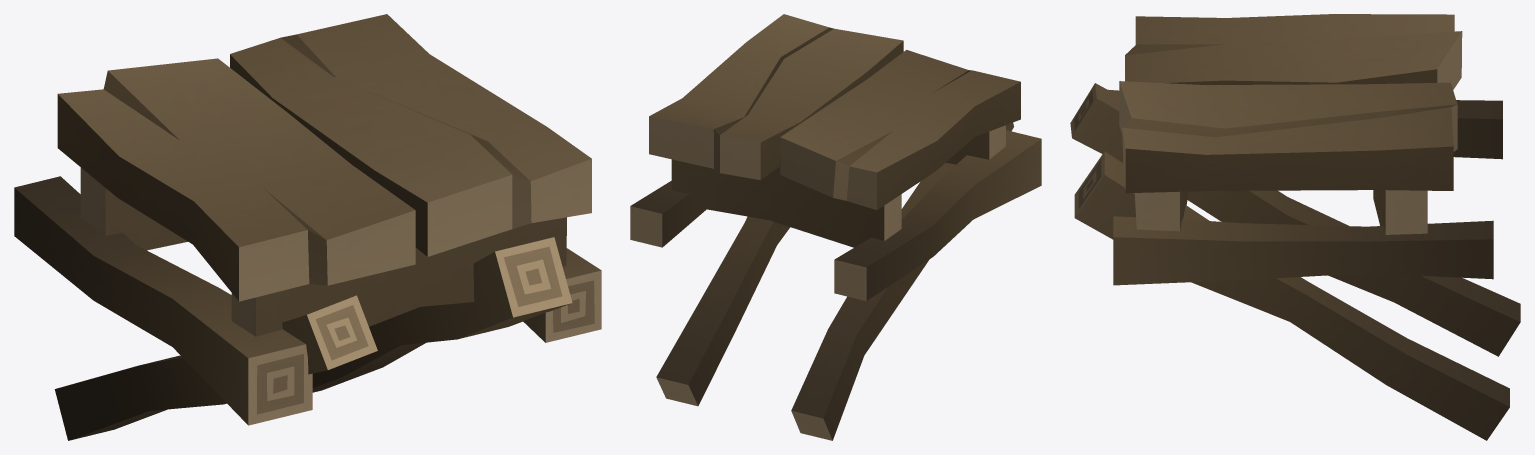
The model's file is scaffolding_1x1_wall_mounted.fbx.
The picture shows the model from 3 angles, left to right: view 1: azimuth 30°, elevation 25°; view 2: azimuth 150°, elevation 25°; view 3: azimuth 270°, elevation 25°; orthographic projection. The views are drawn at different scales.
Parts seen in each view (by area): view 1: scaffolding_1x1_wall_mounted; view 2: scaffolding_1x1_wall_mounted; view 3: scaffolding_1x1_wall_mounted.
Boxes of the visible parts, x1,y1,x2,y2 form: scaffolding_1x1_wall_mounted: (14, 14, 601, 440); scaffolding_1x1_wall_mounted: (630, 14, 1041, 440); scaffolding_1x1_wall_mounted: (1070, 14, 1520, 440).
Bounding box in the file's own units: 103 × 105 × 134.
